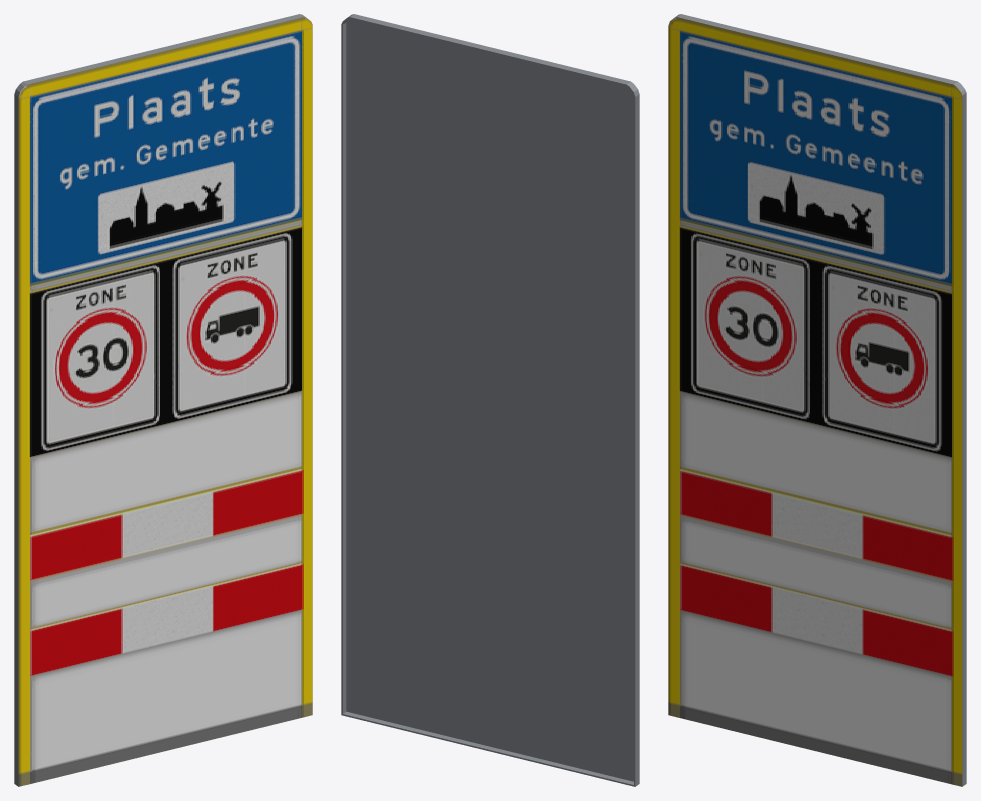
The picture shows the model from 3 angles, left to right: view 1: azimuth 30°, elevation 25°; view 2: azimuth 150°, elevation 25°; view 3: azimuth 330°, elevation 25°; orthographic projection.
Visible parts, largest first — view 1: cat_6fe2a88e9ce38e8d; view 2: cat_6fe2a88e9ce38e8d; view 3: cat_6fe2a88e9ce38e8d.
Part boxes in pixels (x1,y1,x2,y2): cat_6fe2a88e9ce38e8d: (14, 14, 312, 786); cat_6fe2a88e9ce38e8d: (341, 14, 639, 786); cat_6fe2a88e9ce38e8d: (668, 14, 966, 786).
Size of the model in its own units: 0.6 by 0.015 by 1.37.
2 materials, 1 textured.
